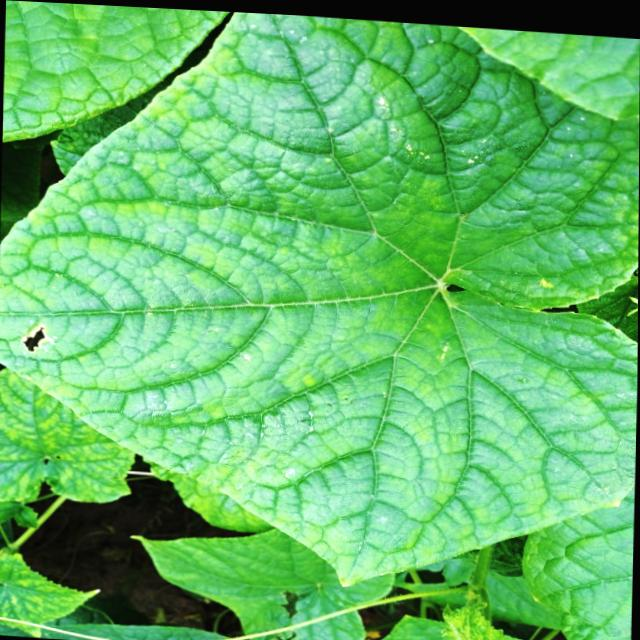Fresh-Leaf: (0, 12, 639, 587)
